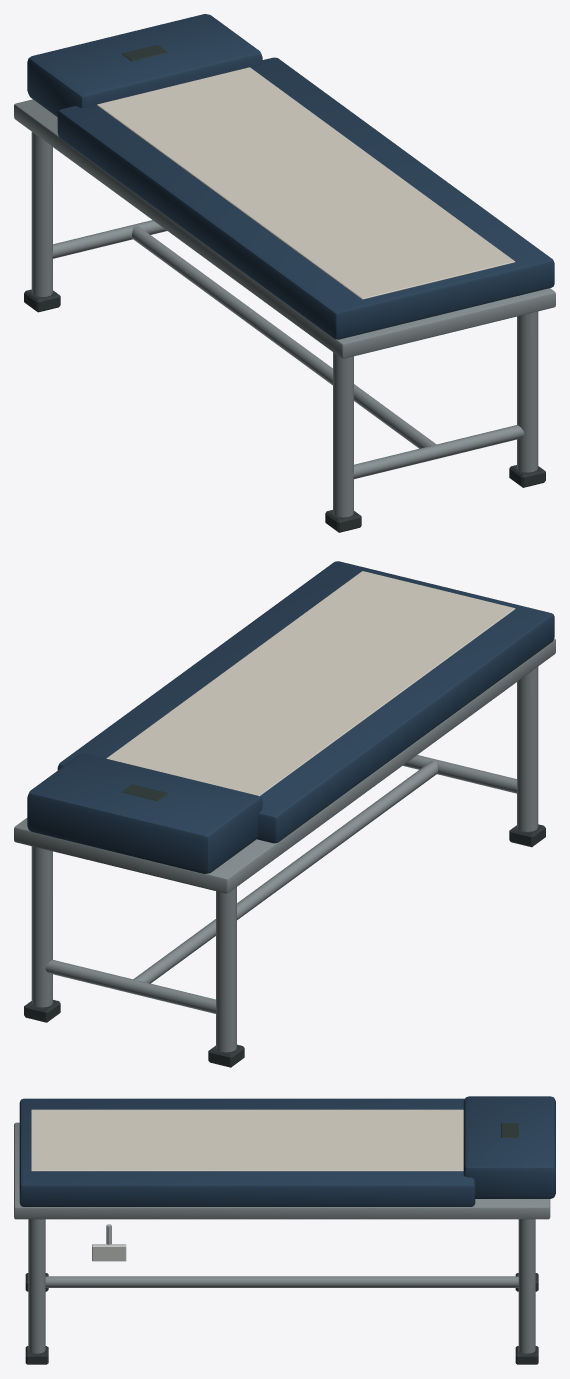
The model's file is treatment-plinth.glb.
3 renders of one model, top to bottom at view 1: azimuth 30°, elevation 25°; view 2: azimuth 150°, elevation 25°; view 3: azimuth 270°, elevation 25°, orthographic. The views are drawn at different scales.
Parts seen in each view (by area): view 1: treatment-plinth; view 2: treatment-plinth; view 3: treatment-plinth.
Boxes of the visible parts, x1,y1,x2,y2 form: treatment-plinth: [14, 14, 555, 532]; treatment-plinth: [14, 561, 555, 1067]; treatment-plinth: [14, 1096, 555, 1364].
Bounding box in the file's own units: 0.75 × 0.7425 × 1.88.
